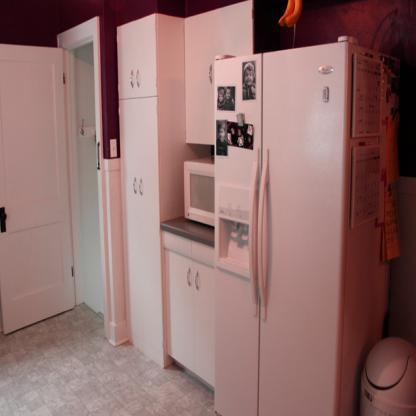door: (0, 41, 66, 340)
hinged: (62, 71, 66, 85), (70, 266, 74, 277)
knob: (1, 212, 8, 222)
